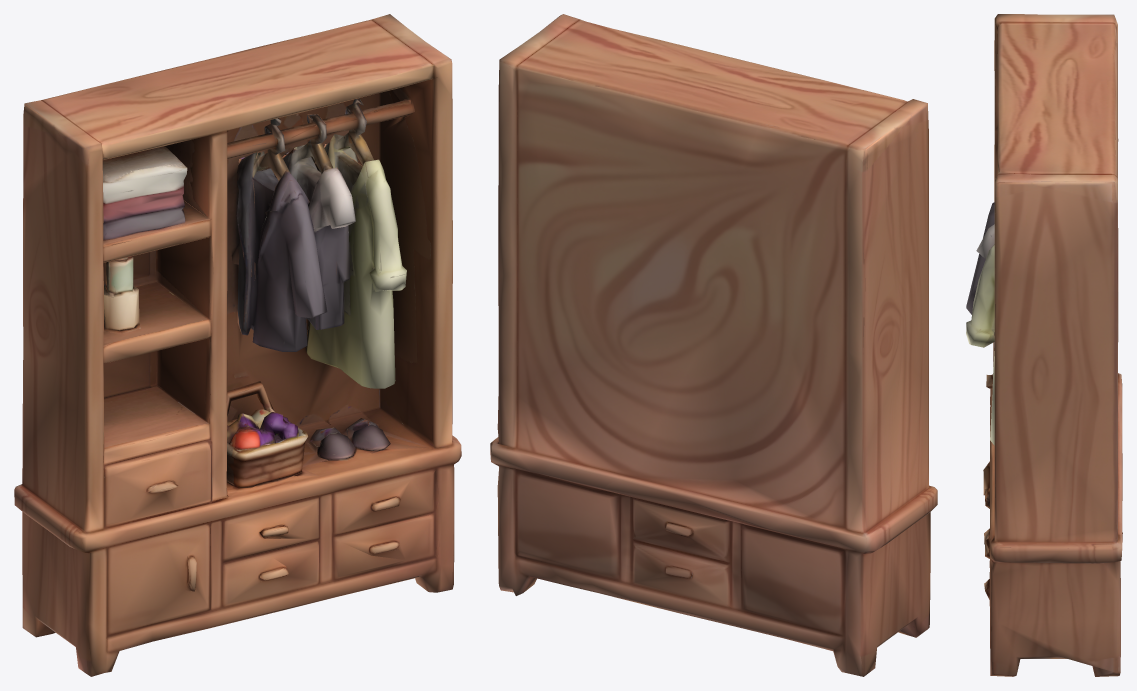
File: Closet.glb
3 views of the same model, side by side, from view 1: azimuth 30°, elevation 25°; view 2: azimuth 150°, elevation 25°; view 3: azimuth 270°, elevation 25° (orthographic). The views are drawn at different scales.
Size of the model in its own units: 1.46 by 1.91 by 0.5446.
Materials: 1 (1 with a texture image).
